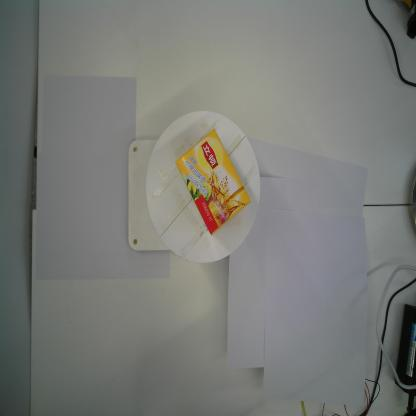Instant Drink: (175, 128, 252, 236)
